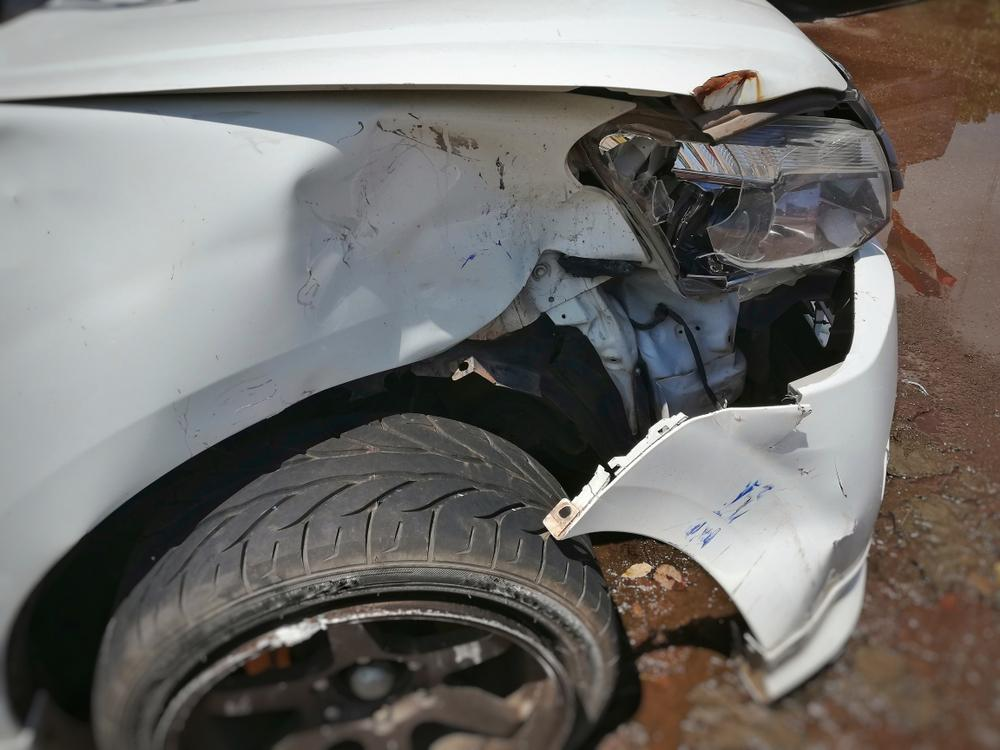dent: (279, 110, 640, 355), (564, 412, 854, 657), (696, 71, 779, 109)
lamp broken: (581, 97, 890, 282)
